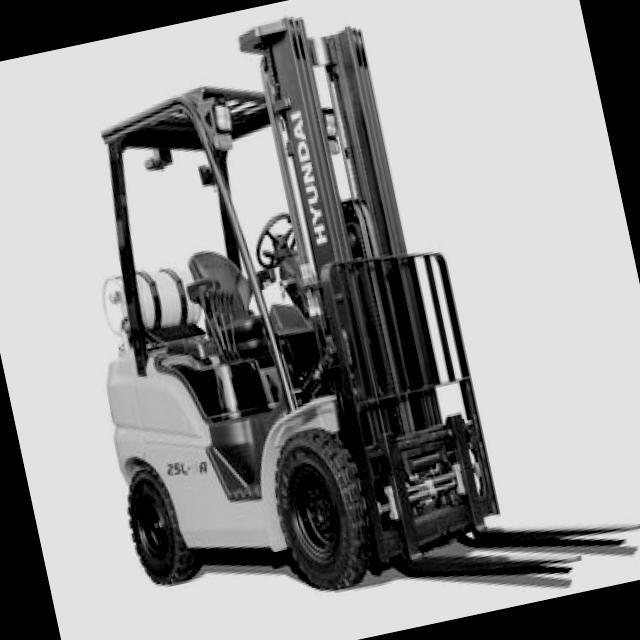forklift: (16, 0, 521, 640)
